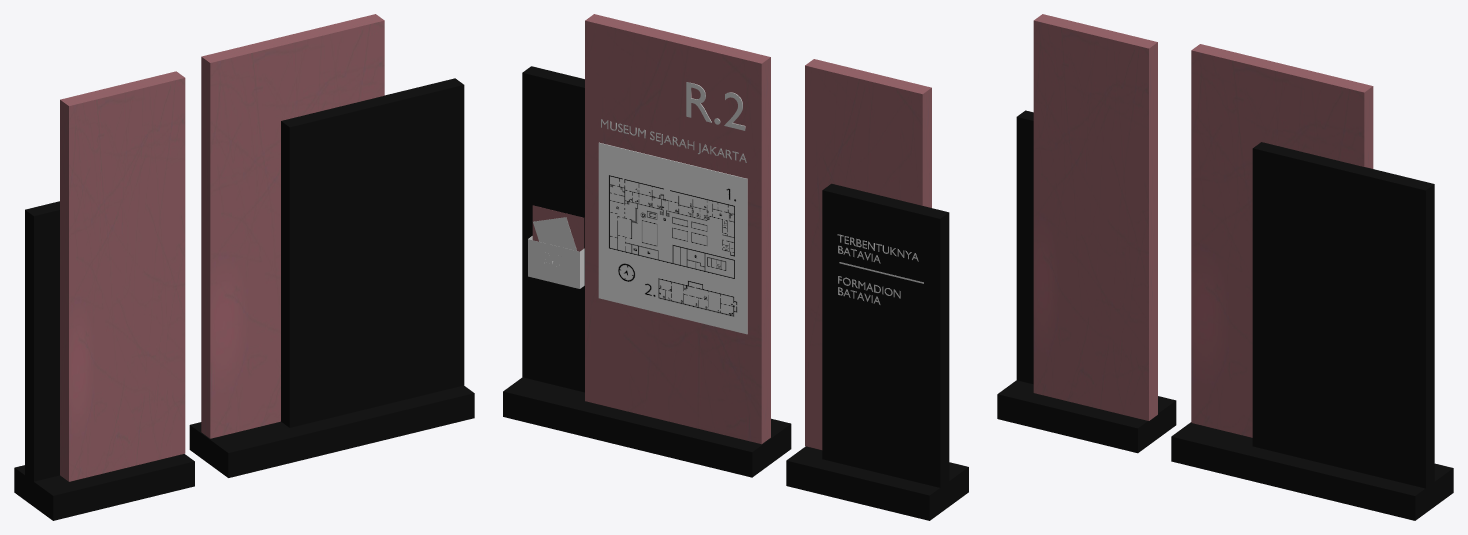
Rendered from papan.fbx.
3 renders of one model, left to right at view 1: azimuth 30°, elevation 25°; view 2: azimuth 150°, elevation 25°; view 3: azimuth 330°, elevation 25°, orthographic. The views are drawn at different scales.
Visible parts, largest first — view 1: black.pg, gold.pk, gold.pg, base.pg, black, base.pk; view 2: gold.pg, black, map, gold.pk, black.pg, base.pg, base.pk, kaca.GG, paper.GG, kotak.GG, room.number, name.museum (+1 smaller); view 3: black.pg, gold.pk, gold.pg, base.pg, base.pk, black.
Boxes of the visible parts, x1=… form: black.pg: x1=281, y1=78, x2=464, y2=427; gold.pk: x1=60, y1=71, x2=185, y2=481; gold.pg: x1=201, y1=14, x2=384, y2=438; base.pg: x1=189, y1=385, x2=474, y2=477; black: x1=25, y1=201, x2=59, y2=481; base.pk: x1=14, y1=454, x2=194, y2=520; gold.pg: x1=585, y1=14, x2=770, y2=444; black: x1=822, y1=183, x2=949, y2=487; map: x1=598, y1=142, x2=747, y2=334; gold.pk: x1=805, y1=59, x2=931, y2=449; black.pg: x1=522, y1=66, x2=584, y2=392; base.pg: x1=503, y1=377, x2=791, y2=477; base.pk: x1=786, y1=446, x2=968, y2=520; kaca.GG: x1=528, y1=236, x2=584, y2=288; paper.GG: x1=533, y1=217, x2=576, y2=250; kotak.GG: x1=532, y1=205, x2=584, y2=251; room.number: x1=686, y1=82, x2=745, y2=130; name.museum: x1=601, y1=119, x2=746, y2=162; black.pg: x1=1252, y1=142, x2=1434, y2=488; gold.pk: x1=1033, y1=14, x2=1157, y2=420; gold.pg: x1=1191, y1=44, x2=1373, y2=437; base.pg: x1=1171, y1=422, x2=1453, y2=520; base.pk: x1=997, y1=380, x2=1176, y2=453; black: x1=1016, y1=110, x2=1033, y2=384.
Bounding box in the file's own units: 881 × 800 × 140.
Materials: 10 (2 with a texture image).
